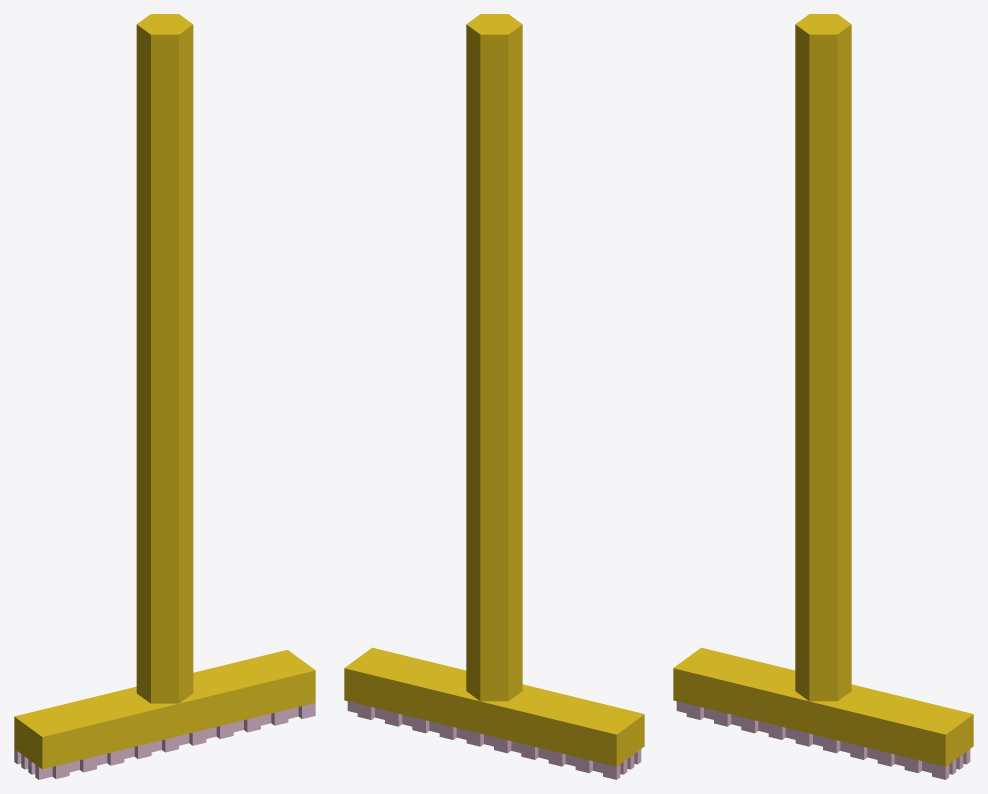
File: shabra.fbx
The picture shows the model from 3 angles, left to right: view 1: azimuth 30°, elevation 25°; view 2: azimuth 150°, elevation 25°; view 3: azimuth 330°, elevation 25°; orthographic projection.
Visible parts, largest first — view 1: Cylinder.004; view 2: Cylinder.004; view 3: Cylinder.004.
Part boxes in pixels (x1=…): Cylinder.004: x1=14, y1=14, x2=315, y2=779; Cylinder.004: x1=344, y1=14, x2=644, y2=779; Cylinder.004: x1=673, y1=14, x2=973, y2=779.
Bounding box in the file's own units: 315 × 786 × 56.29.
